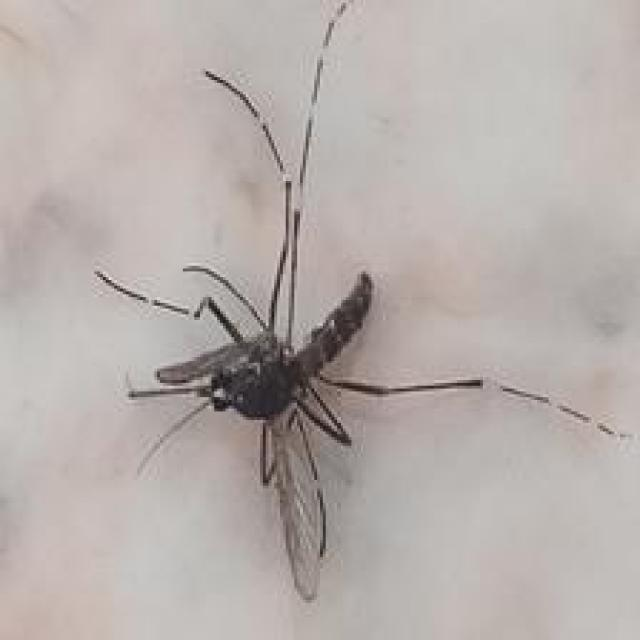Aedes albopictus: (91, 0, 640, 603)
